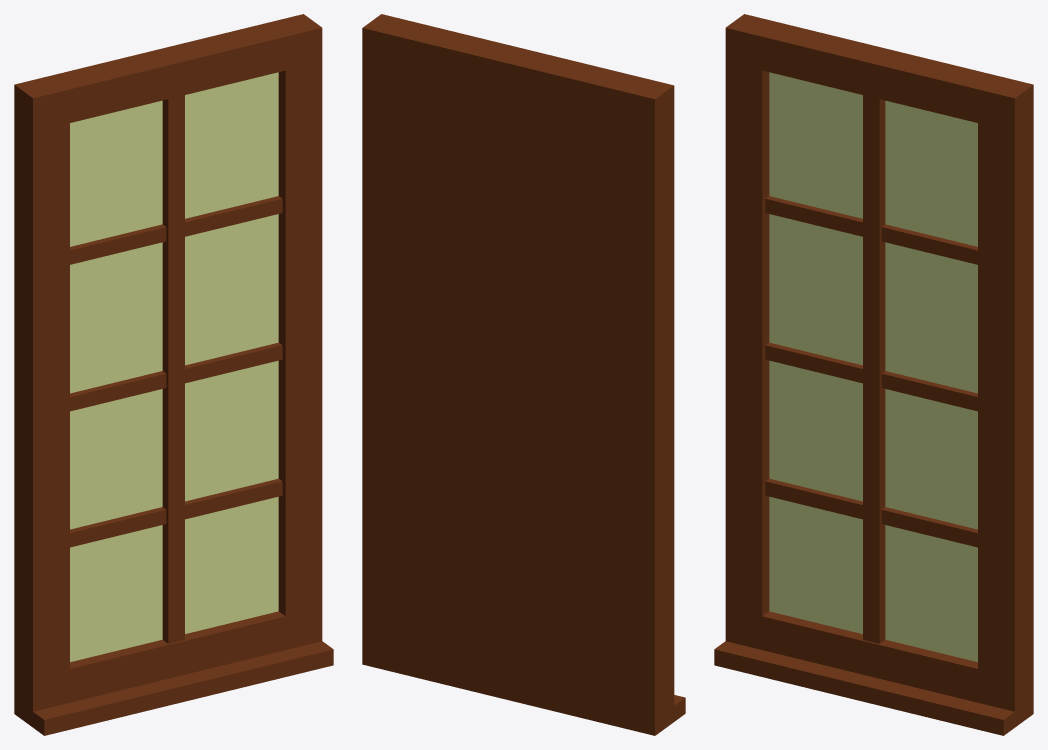
File: window.fbx
3 views of the same model, side by side, from view 1: azimuth 30°, elevation 25°; view 2: azimuth 150°, elevation 25°; view 3: azimuth 330°, elevation 25° (orthographic).
Visible parts, largest first — view 1: Window; view 2: Window; view 3: Window.
Boxes of the visible parts, x1,y1,x2,y2 form: Window: (14,14,333,735); Window: (362,14,685,735); Window: (714,14,1033,735).
Bounding box in the file's own units: 2080 × 374 × 4322.
